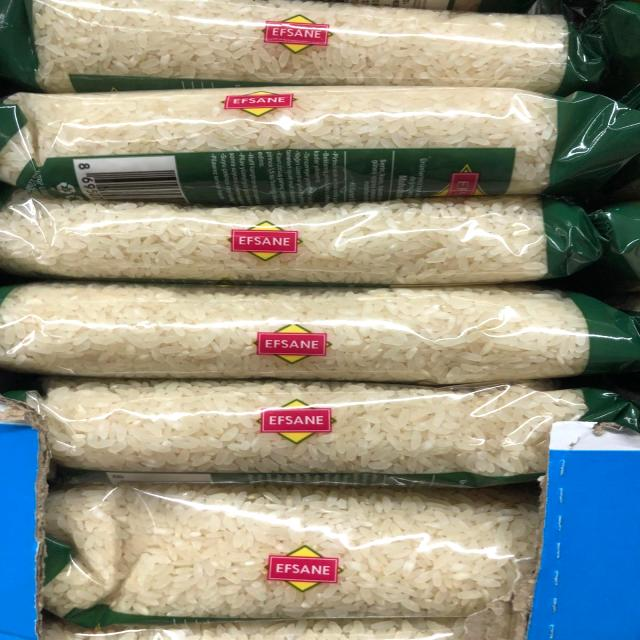rice: (4, 94, 640, 200), (39, 484, 538, 613), (6, 287, 598, 382), (8, 384, 609, 477), (8, 1, 640, 89), (9, 204, 640, 288)
